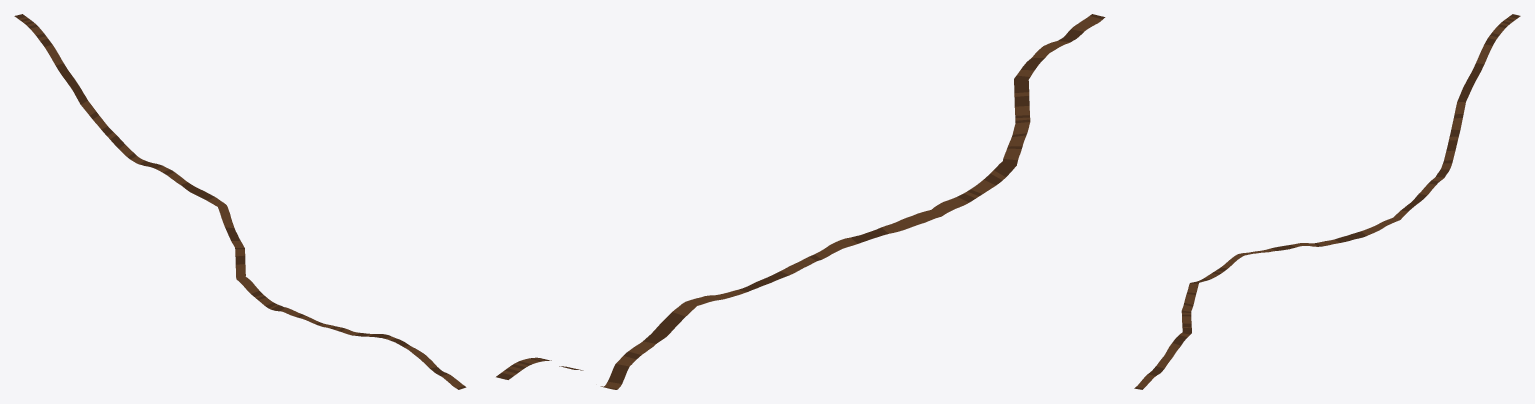
The model's file is road.gltf.
3 renders of one model, left to right at view 1: azimuth 30°, elevation 25°; view 2: azimuth 150°, elevation 25°; view 3: azimuth 330°, elevation 25°, orthographic. The views are drawn at different scales.
Size of the model in its own units: 37.76 by 36.66 by 326.
